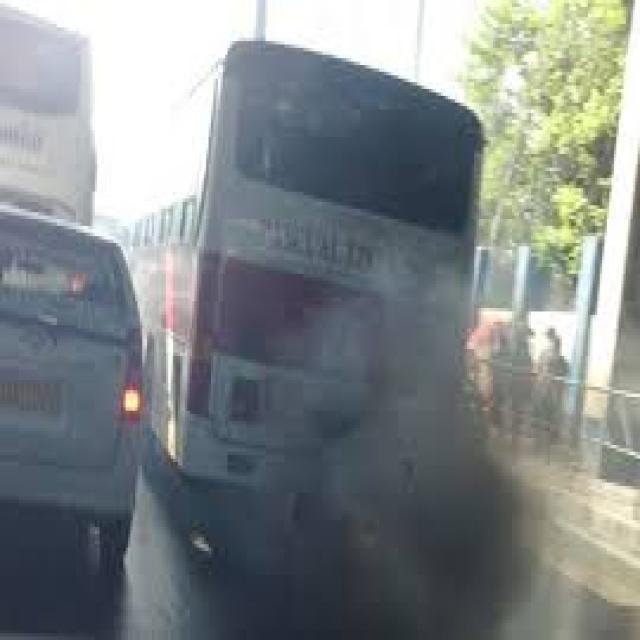Smoke: (284, 258, 598, 640)
